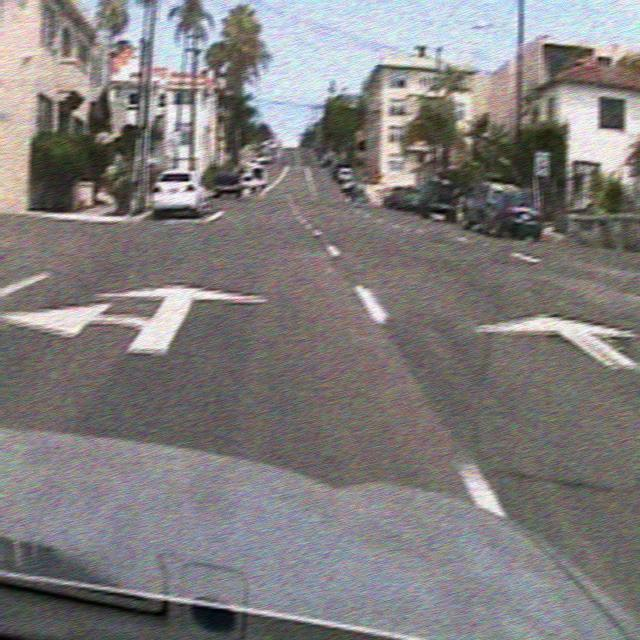speedLimit25: (533, 150, 550, 178)
